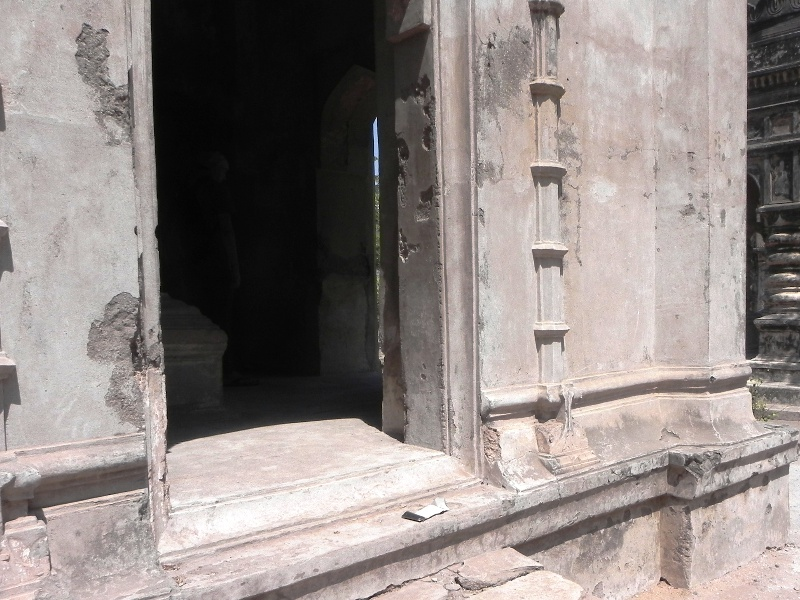Spalling: (85, 288, 154, 429), (71, 18, 134, 146), (400, 80, 432, 121), (399, 234, 421, 263), (419, 125, 437, 152), (417, 188, 441, 207), (396, 134, 408, 169)
